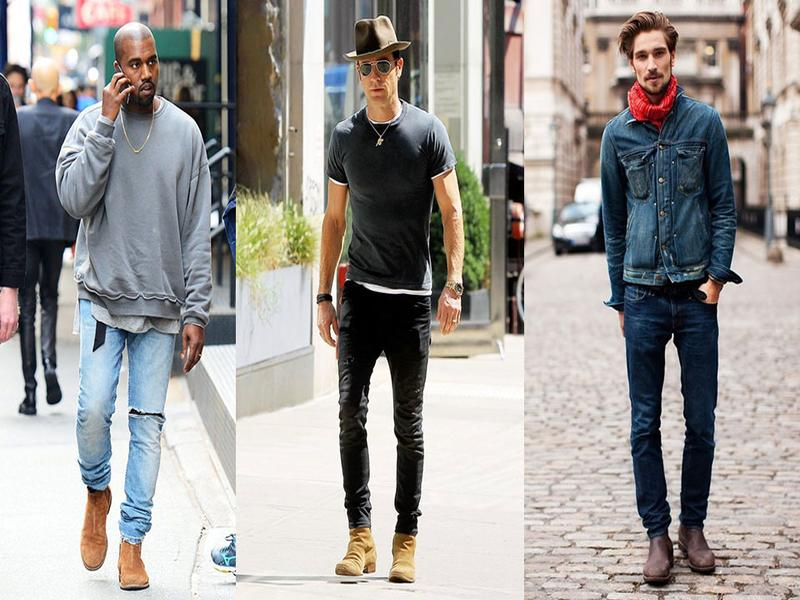shoes_men_chelsea_chelseaboots_leather_none_none_brown_none: (605, 527, 742, 584)
shoes_men_chelsea_chelseaboots_suede_none_none_beige_none: (74, 482, 154, 596), (307, 523, 443, 587)
